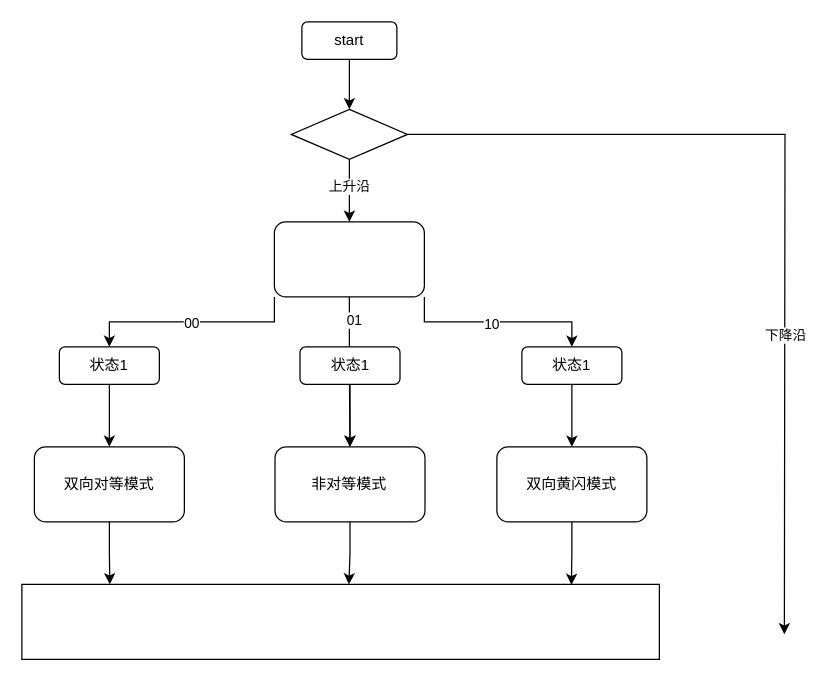
The diagram is 828 pixels wide and 681 high, and some of its shapes have lost their labels. Here are the shapes that lost their labels. From the top down, the centre of each, then its label:
At pixel 349 133: "clk".
At pixel 348 259: "读取sw1 sw2的值".
At pixel 340 621: "end".
